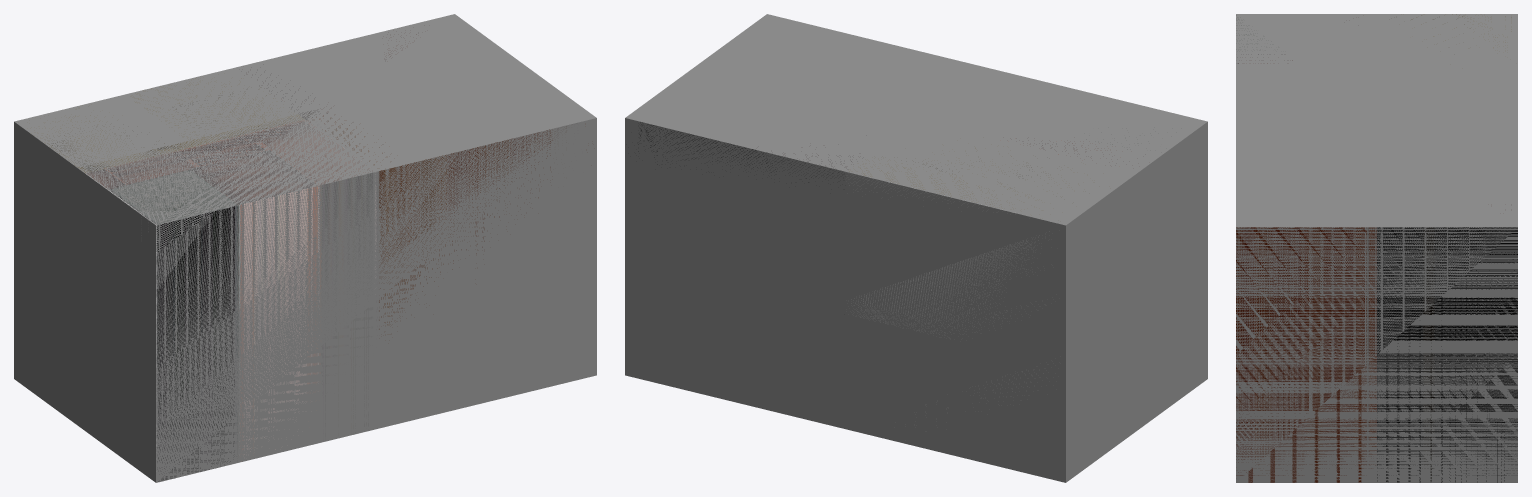
The model's file is couch.FBX.
The picture shows the model from 3 angles, left to right: view 1: azimuth 30°, elevation 25°; view 2: azimuth 150°, elevation 25°; view 3: azimuth 270°, elevation 25°; orthographic projection.
Visible parts, largest first — view 1: bounds, colbox-1; view 2: bounds, colbox-1; view 3: bounds, colbox-1.
Part boxes in pixels (bbox=[...]): bounds: bbox=[14, 14, 596, 482]; colbox-1: bbox=[47, 34, 577, 481]; bounds: bbox=[625, 14, 1207, 482]; colbox-1: bbox=[638, 122, 1112, 391]; bounds: bbox=[1236, 14, 1517, 482]; colbox-1: bbox=[1236, 14, 1517, 482].
Bounding box in the file's own units: 192 × 107 × 107.
